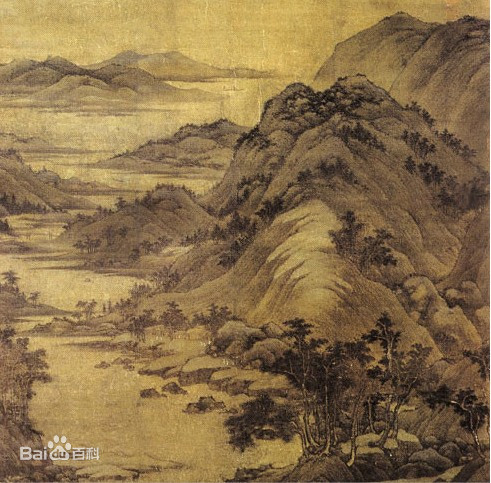hill: (90, 191, 189, 263), (1, 149, 86, 211), (137, 122, 245, 161)
range: (257, 97, 442, 338), (342, 1, 491, 93), (24, 54, 205, 108)
river: (33, 340, 269, 482), (12, 203, 110, 302), (26, 117, 130, 187), (201, 74, 279, 124)
tree: (237, 319, 376, 446), (434, 385, 491, 451)
